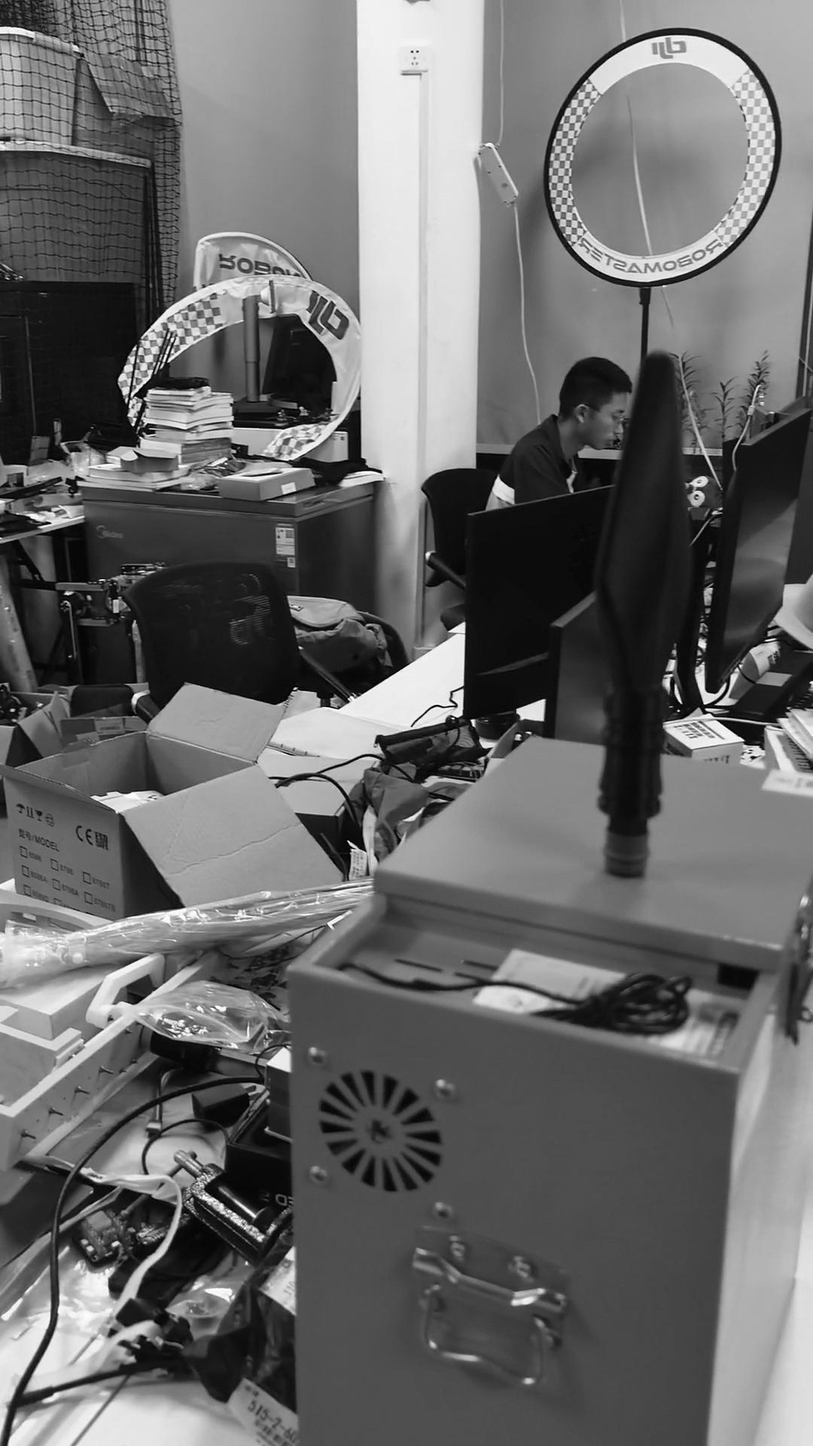base: (602, 827, 650, 879)
